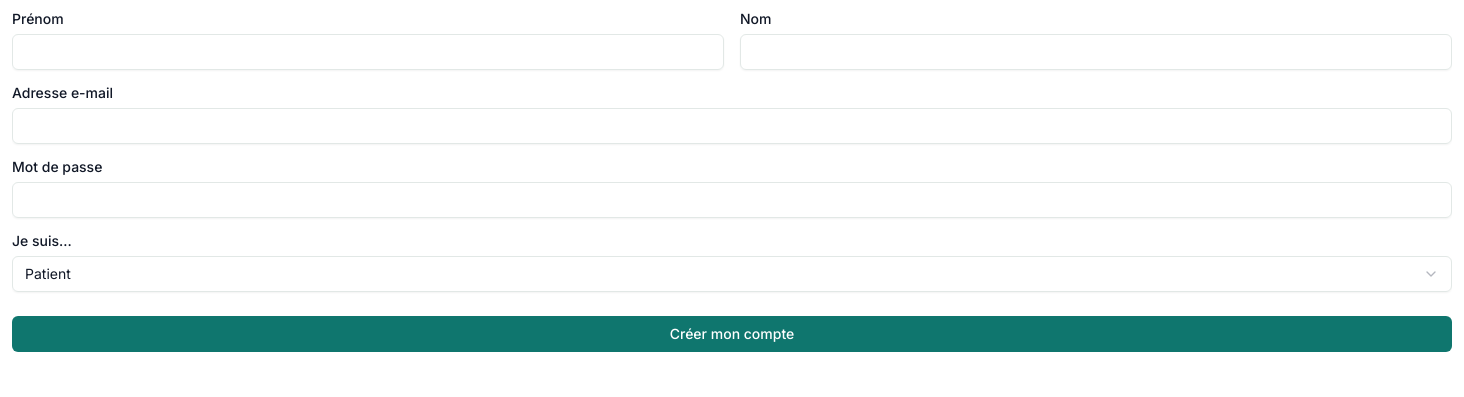
Test: RegisterForm › rejects a password shorter than 8 characters, matching the backend constraint
In the field labelled "Prénom": (368, 52) [12,34,724,70], type "Amina"
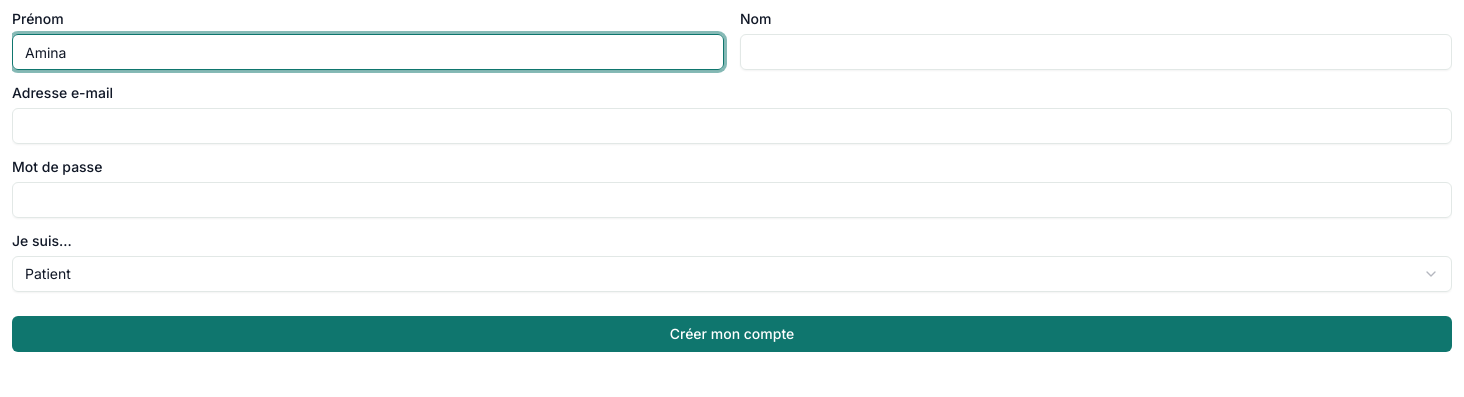
In the field labelled "Nom": (1096, 52) [740,34,1452,70], type "Bennis"
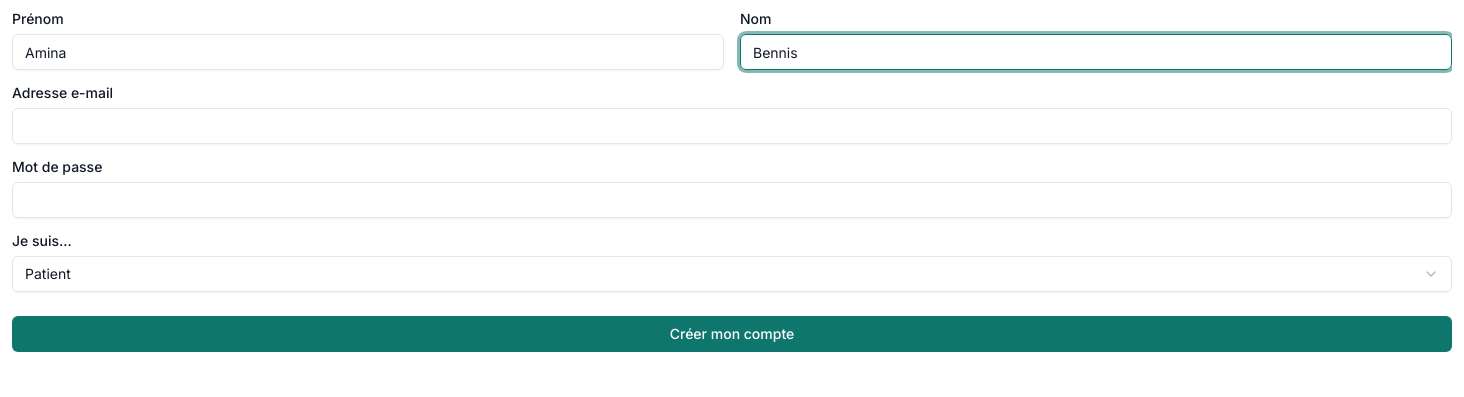
In the field labelled "Adresse e-mail": (732, 126) [12,108,1452,144], type "amina@example.com"
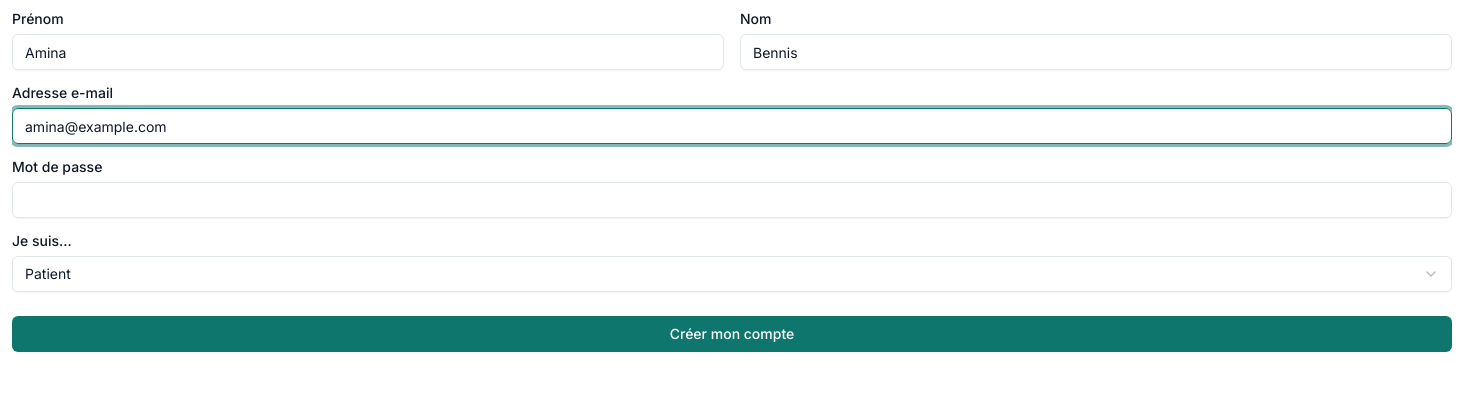
In the password field labelled "Mot de passe": (732, 200) [12,182,1452,218], type "short1"
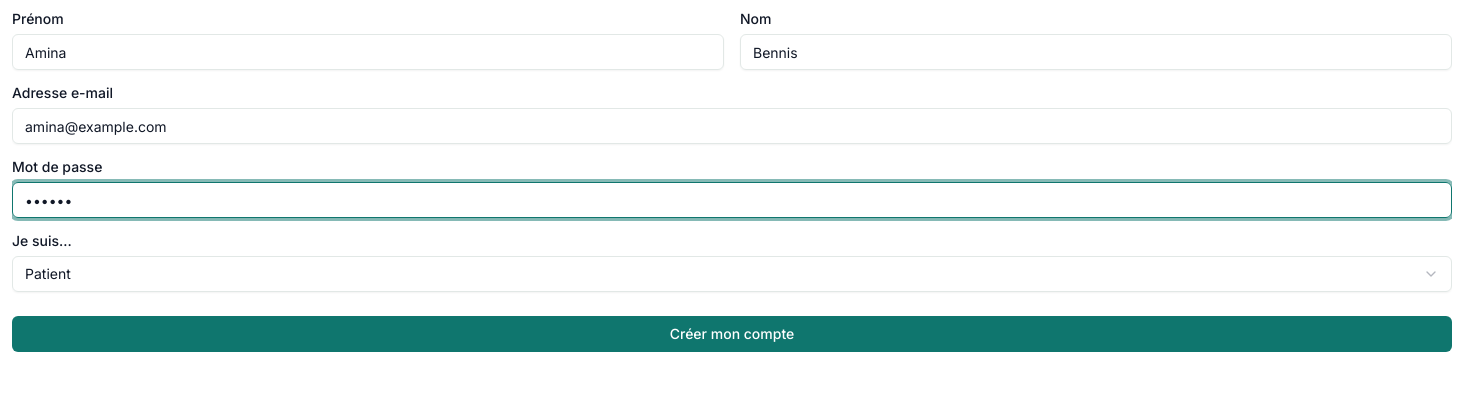
Click the button "Créer mon compte": (732, 334) [12,316,1452,352]
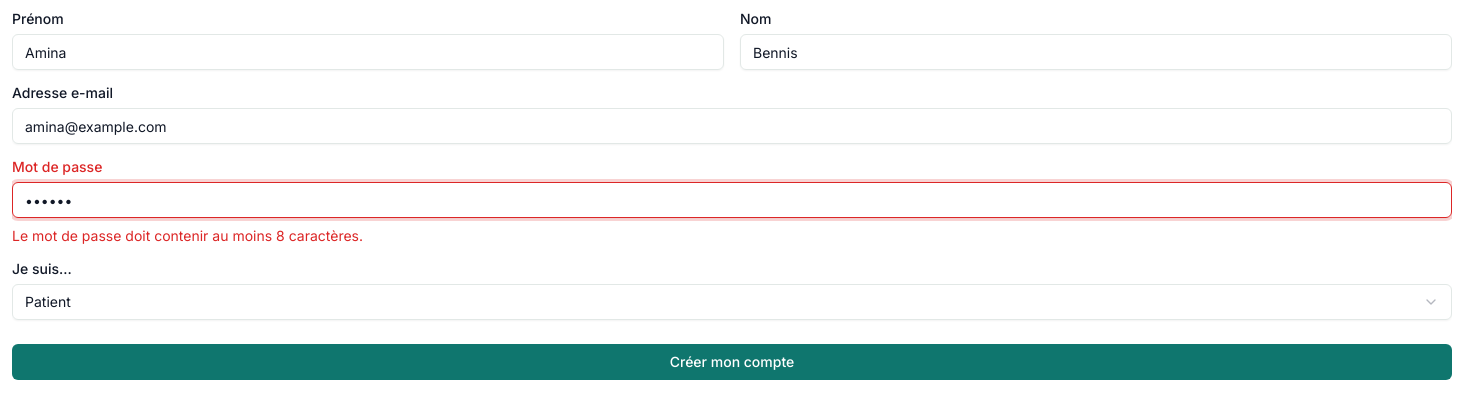
Result: the text "Le mot de passe doit contenir au moins 8 caractères." is shown at [12,227,363,244]
